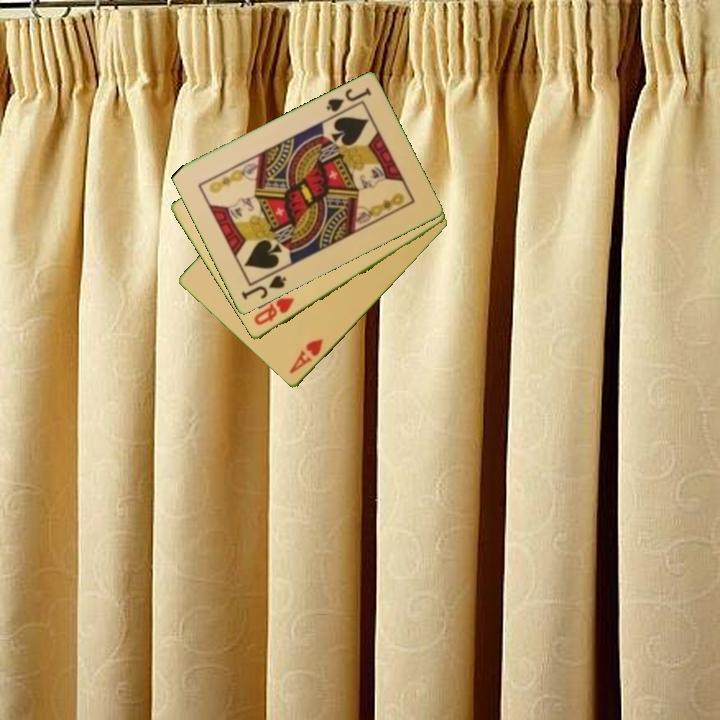Ah: (286, 335, 326, 377)
Js: (322, 84, 374, 120), (237, 272, 290, 303)
Qh: (250, 294, 297, 328)
